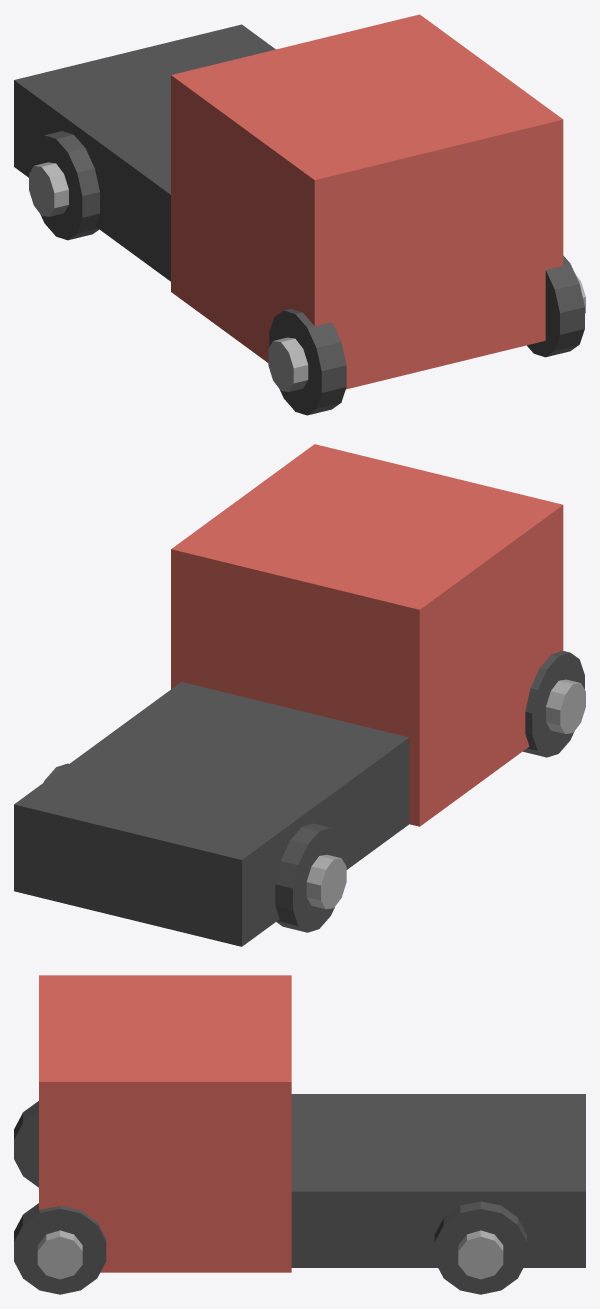
Rendered from semi_tractor.glb.
3 renders of one model, top to bottom at view 1: azimuth 30°, elevation 25°; view 2: azimuth 150°, elevation 25°; view 3: azimuth 270°, elevation 25°, orthographic. The views are drawn at different scales.
Visible parts, largest first — view 1: cab, chassis, wheel_fr, wheel_rr, wheel_fl, hub_-1_1, hub_-1_-1; view 2: cab, chassis, wheel_rr, wheel_fr, hub_-1_-1, hub_-1_1; view 3: cab, chassis, wheel_rl, wheel_fl, hub_1_1, hub_1_-1, wheel_fr.
Boxes of the visible parts, left/top/right/bottom form: cab: left=171, top=14, right=563, bottom=389; chassis: left=14, top=24, right=275, bottom=281; wheel_fr: left=269, top=309, right=346, bottom=415; wheel_rr: left=30, top=131, right=99, bottom=240; wheel_fl: left=527, top=255, right=584, bottom=357; hub_-1_1: left=268, top=337, right=308, bottom=391; hub_-1_-1: left=29, top=162, right=68, bottom=216; cab: left=171, top=444, right=563, bottom=826; chassis: left=14, top=682, right=409, bottom=946; wheel_rr: left=275, top=823, right=345, bottom=932; wheel_fr: left=523, top=651, right=584, bottom=757; hub_-1_-1: left=306, top=854, right=346, bottom=909; hub_-1_1: left=546, top=679, right=585, bottom=733; cab: left=39, top=975, right=291, bottom=1272; chassis: left=291, top=1094, right=585, bottom=1267; wheel_rl: left=434, top=1201, right=526, bottom=1294; wheel_fl: left=14, top=1203, right=106, bottom=1294; hub_1_1: left=37, top=1230, right=82, bottom=1279; hub_1_-1: left=458, top=1230, right=503, bottom=1279; wheel_fr: left=14, top=1101, right=38, bottom=1187.
Bounding box in the file's own units: 2.82 × 2.2 × 5.44.
